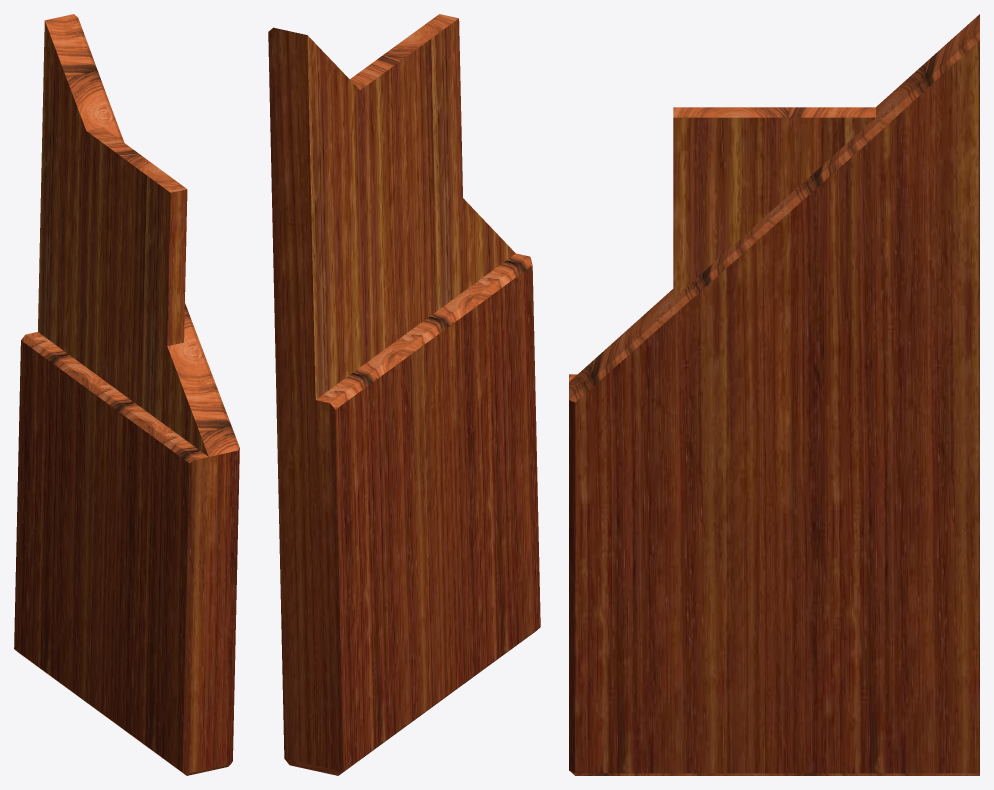
Rendered from GMY_J_ceyatou_01_02.FBX.
The picture shows the model from 3 angles, left to right: view 1: azimuth 30°, elevation 25°; view 2: azimuth 150°, elevation 25°; view 3: azimuth 270°, elevation 25°; orthographic projection. The views are drawn at different scales.
Parts seen in each view (by area): view 1: GMY_J_ceyatou_01_02; view 2: GMY_J_ceyatou_01_02; view 3: GMY_J_ceyatou_01_02.
Part boxes in pixels (x1,y1,x2,y2): GMY_J_ceyatou_01_02: (14, 14, 239, 775); GMY_J_ceyatou_01_02: (268, 14, 540, 775); GMY_J_ceyatou_01_02: (569, 14, 979, 775).
Bounding box in the file's own units: 1.02 × 9.51 × 4.7.
